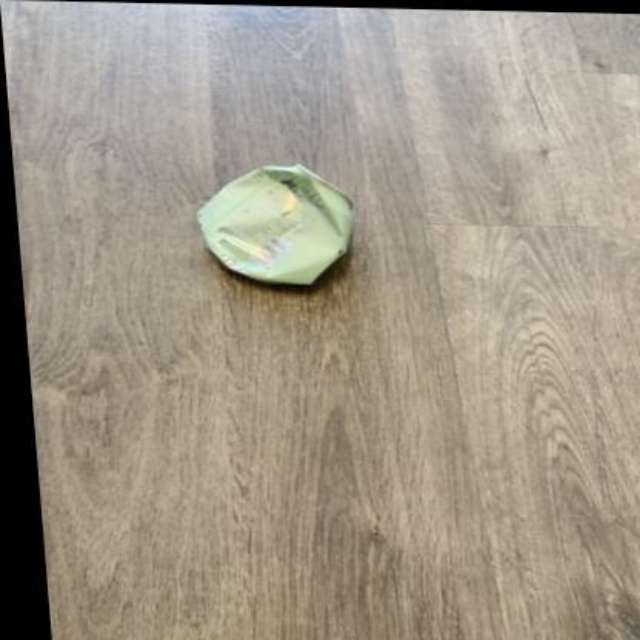trash: (197, 165, 352, 283)
